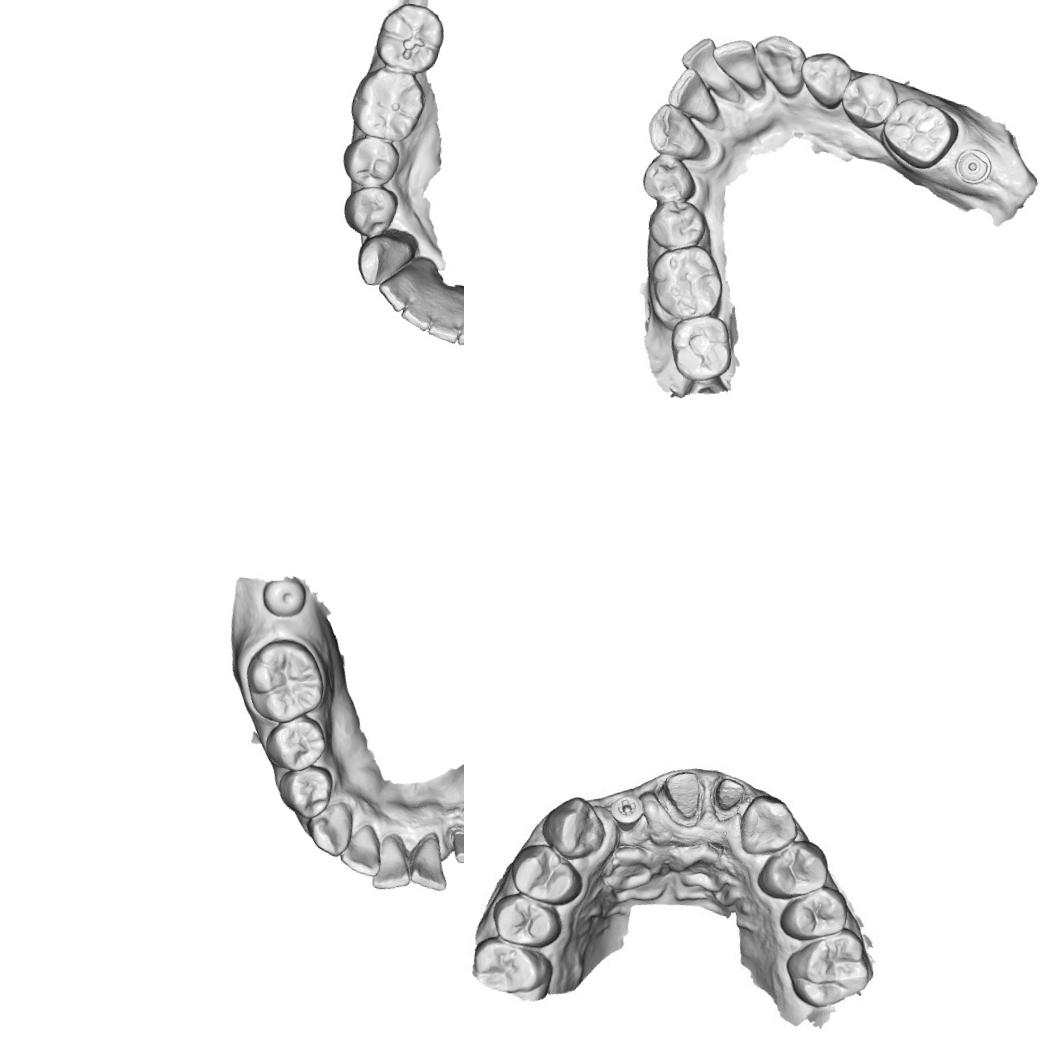abutment: (442, 823, 464, 865)
canine: (541, 794, 611, 864), (733, 790, 800, 860), (644, 102, 716, 164), (749, 31, 809, 100), (352, 230, 416, 291), (302, 795, 358, 859)
crown: (656, 762, 710, 826), (710, 769, 753, 820)
implant: (258, 573, 310, 621), (952, 144, 995, 187)
implant_minus: (610, 788, 648, 828)
incisor: (664, 64, 725, 125), (405, 828, 454, 892), (370, 833, 416, 893), (337, 822, 386, 878), (708, 33, 759, 80), (678, 32, 720, 80), (376, 269, 420, 314), (398, 294, 436, 333), (426, 311, 463, 345)
molar: (780, 918, 884, 1014), (238, 632, 334, 728), (644, 239, 728, 326), (876, 93, 962, 174), (346, 62, 429, 145), (466, 936, 556, 1004), (371, 0, 448, 76), (665, 308, 737, 386)
premolar: (505, 834, 582, 910), (758, 834, 834, 902), (775, 877, 846, 947), (488, 888, 563, 952), (836, 68, 902, 134), (262, 711, 328, 775), (644, 195, 710, 256), (273, 760, 336, 822), (795, 49, 855, 113), (339, 132, 402, 192), (338, 182, 401, 241), (638, 152, 700, 208)
